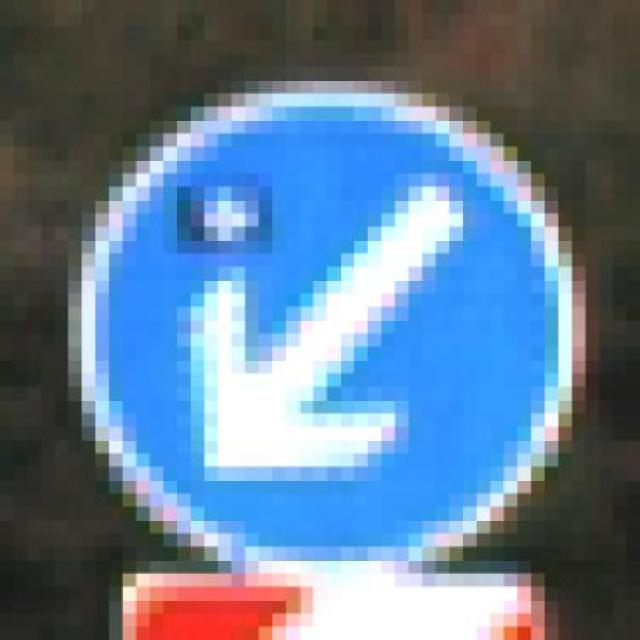Keep-Left: (27, 53, 627, 573)
